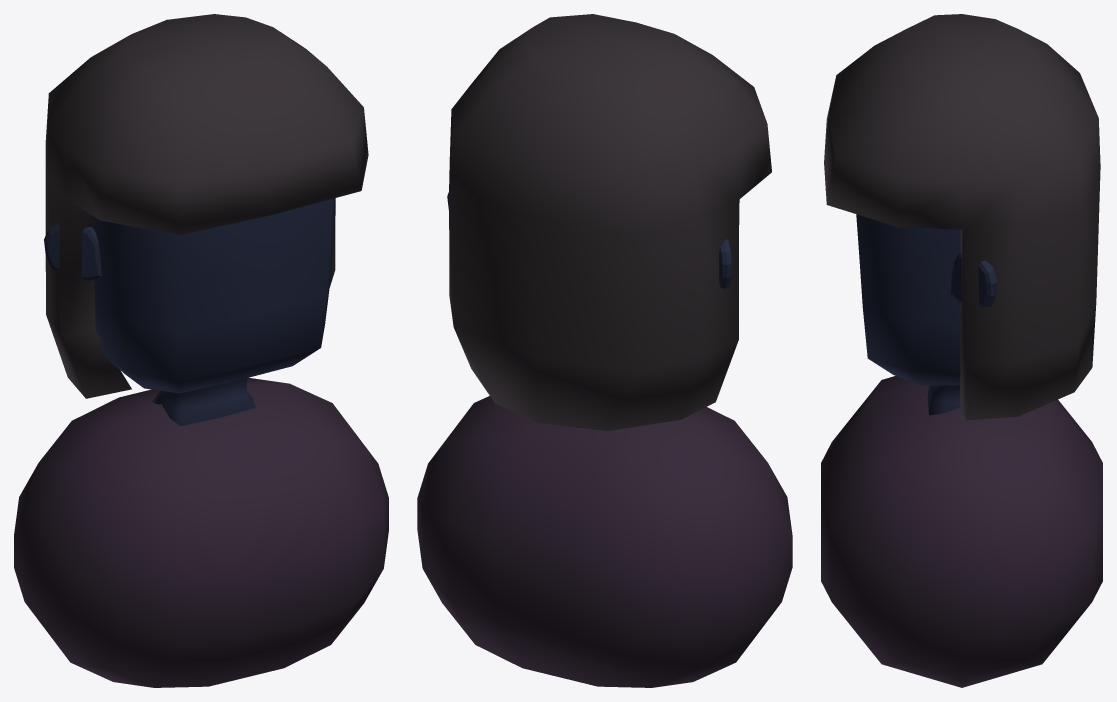
The model's file is convobot_Karen.fbx.
3 views of the same model, side by side, from view 1: azimuth 30°, elevation 25°; view 2: azimuth 150°, elevation 25°; view 3: azimuth 270°, elevation 25° (orthographic). The views are drawn at different scales.
Parts seen in each view (by area): view 1: Body, hair, head, R_ear; view 2: hair, Body, R_ear; view 3: hair, Body, head, L_ear.
Boxes of the visible parts, x1,y1,x2,y2 form: Body: (14, 377, 388, 687); hair: (45, 14, 368, 398); head: (93, 198, 335, 426); R_ear: (44, 223, 101, 280); hair: (449, 14, 771, 430); Body: (417, 396, 792, 687); R_ear: (719, 239, 732, 288); hair: (824, 14, 1100, 420); Body: (821, 376, 1102, 687); head: (856, 214, 960, 415); L_ear: (950, 251, 997, 307).
Size of the model in its own units: 900 by 1609 by 666.
